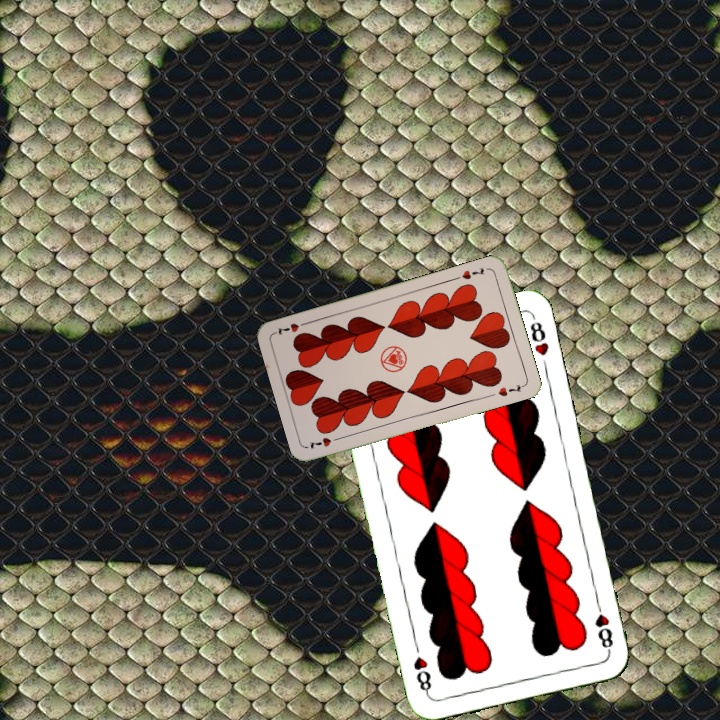H7: (305, 432, 344, 451), (458, 264, 487, 282)
H8: (591, 596, 616, 655)
